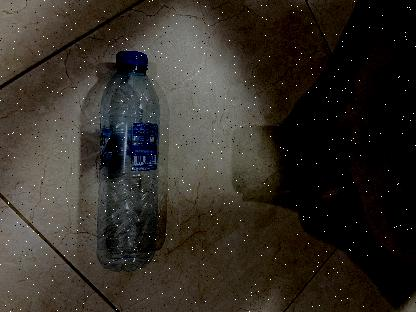Plastic Bottle: (96, 50, 160, 272)
